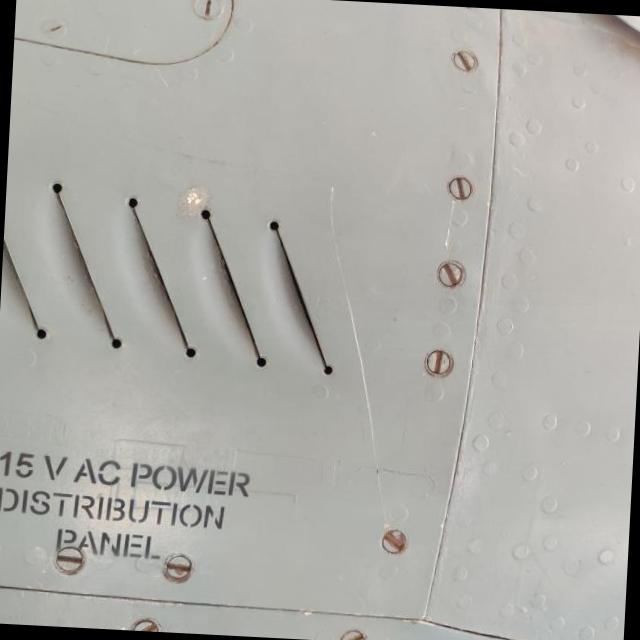Scratch: (326, 187, 377, 470)
